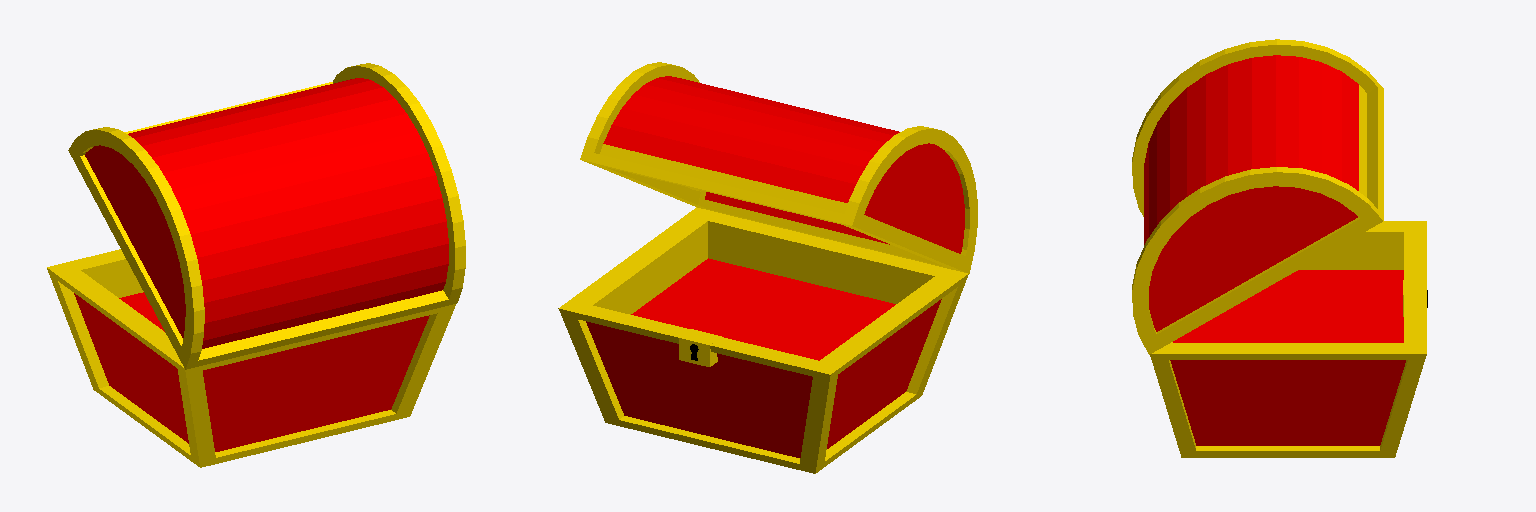
The picture shows the model from 3 angles: view 1: azimuth 30°, elevation 25°; view 2: azimuth 150°, elevation 25°; view 3: azimuth 270°, elevation 25°; orthographic projection.
Visible parts, largest first — view 1: 円柱; view 2: 円柱; view 3: 円柱.
Part boxes in pixels (bbox=[...]): 円柱: bbox=[47, 63, 465, 467]; 円柱: bbox=[558, 62, 977, 473]; 円柱: bbox=[1132, 39, 1427, 457].
Size of the model in its own units: 2 by 2.11 by 1.88.
Materials: 1 (1 with a texture image).